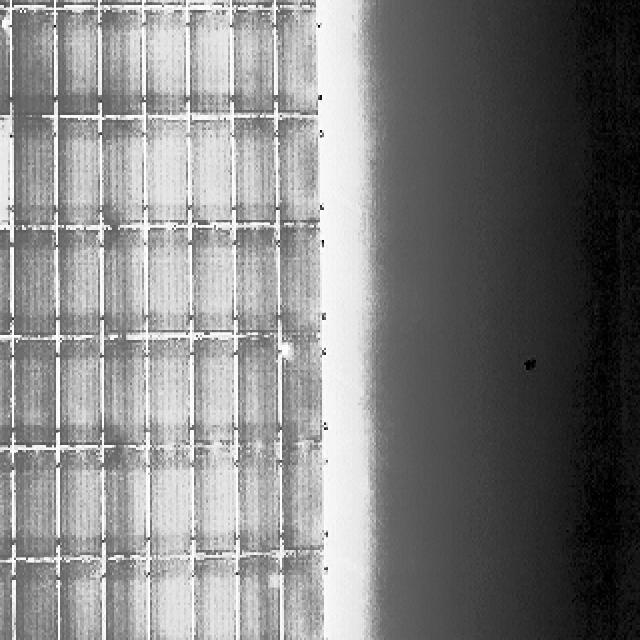Hotspots: (277, 339, 292, 361), (0, 15, 10, 33)
PV-modules: (149, 222, 198, 334), (11, 117, 59, 228), (57, 447, 105, 558), (150, 335, 198, 446), (238, 338, 284, 452), (96, 120, 142, 232), (57, 340, 104, 449), (104, 447, 151, 556), (229, 120, 276, 229), (279, 444, 326, 553), (140, 10, 186, 121), (95, 10, 141, 121), (191, 447, 237, 558), (12, 10, 58, 120), (236, 226, 282, 336), (55, 8, 101, 118), (191, 334, 236, 446), (278, 224, 323, 336), (58, 120, 102, 234), (15, 448, 60, 559), (54, 230, 100, 338), (14, 336, 60, 444), (274, 9, 320, 117), (279, 339, 324, 449), (147, 447, 192, 557), (14, 231, 59, 340), (104, 340, 149, 449), (239, 446, 284, 555), (187, 11, 231, 122), (142, 122, 187, 229), (104, 228, 148, 337), (234, 9, 278, 118), (276, 116, 320, 225), (190, 228, 234, 336), (188, 119, 233, 224), (279, 556, 325, 640), (100, 561, 148, 640), (239, 558, 284, 640), (152, 560, 198, 640), (14, 563, 61, 640), (58, 562, 104, 640), (192, 560, 236, 640), (0, 448, 14, 558), (0, 227, 12, 335), (0, 10, 12, 118), (0, 332, 8, 448), (0, 562, 12, 638), (0, 120, 8, 232), (186, 0, 232, 8), (226, 0, 272, 8), (270, 0, 316, 8), (8, 0, 54, 5), (138, 0, 184, 5), (94, 0, 140, 5), (54, 0, 98, 5), (0, 0, 12, 5)
